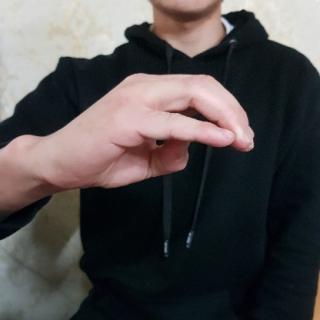JEEM: (38, 68, 256, 193)
